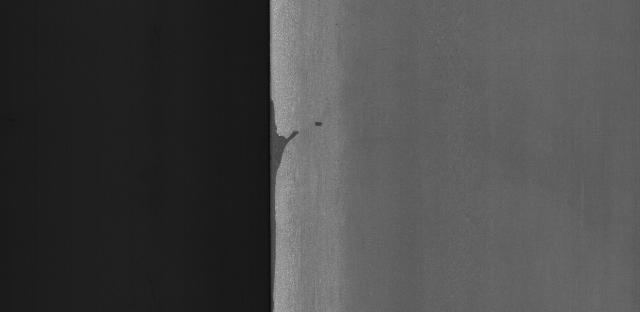water_spot: (258, 96, 327, 208)
